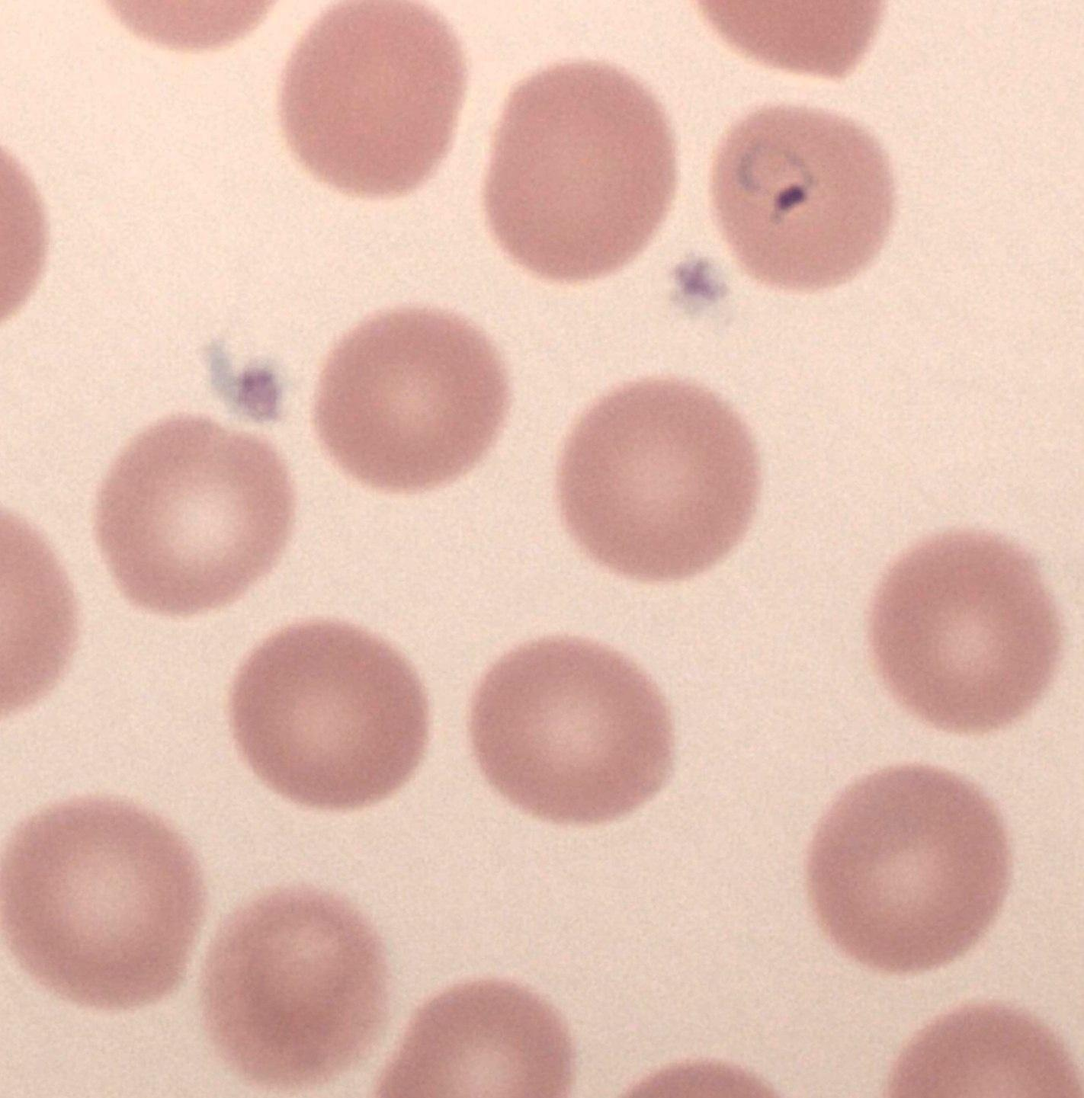Infected: (710, 104, 896, 287)
Uninfected: (488, 64, 682, 286), (555, 379, 760, 578), (0, 799, 198, 1005), (807, 768, 1007, 970), (91, 416, 290, 615), (868, 532, 1063, 733), (226, 619, 428, 809), (280, 0, 472, 194), (472, 638, 670, 821), (201, 896, 392, 1084), (315, 306, 511, 489)
